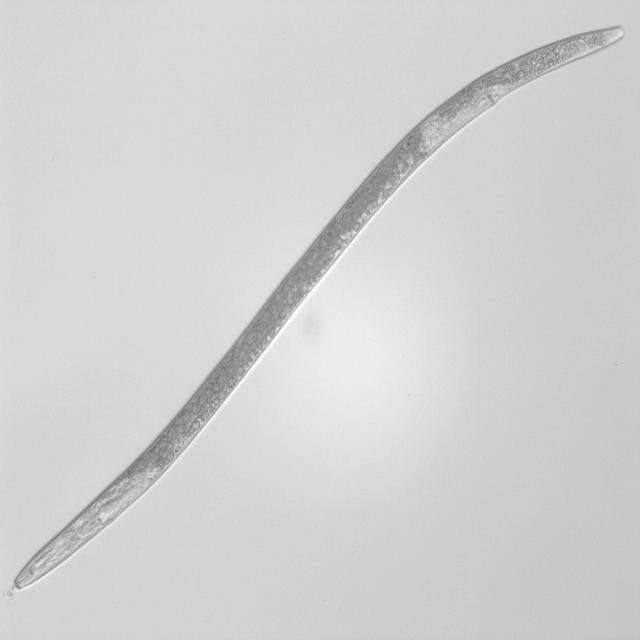Pratylenchus: (6, 21, 628, 599)
